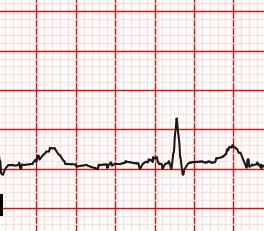LVH: (213, 145, 254, 173)
